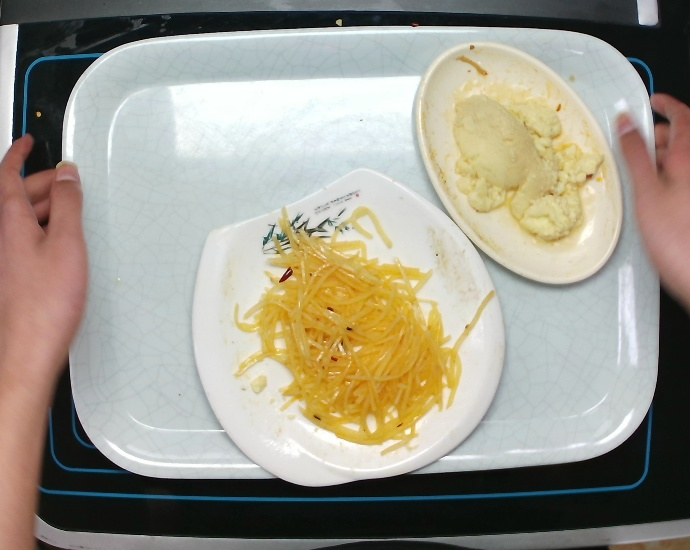JYsf-Mian_Pan: (181, 160, 517, 491)
JYsf-Tuo_Yuan_Wan: (404, 34, 631, 295)
